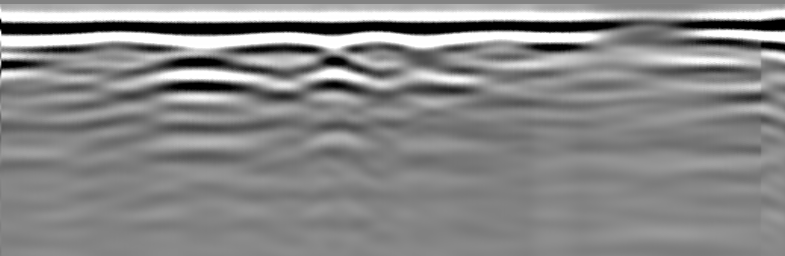pipe: (593, 19, 691, 40)
steel: (144, 48, 251, 75), (292, 50, 371, 75)
